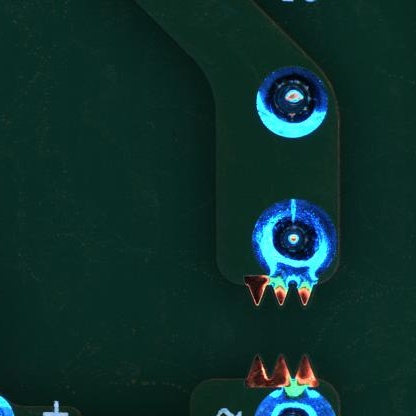spot: (251, 198, 338, 284), (254, 65, 330, 142), (253, 383, 338, 416)
